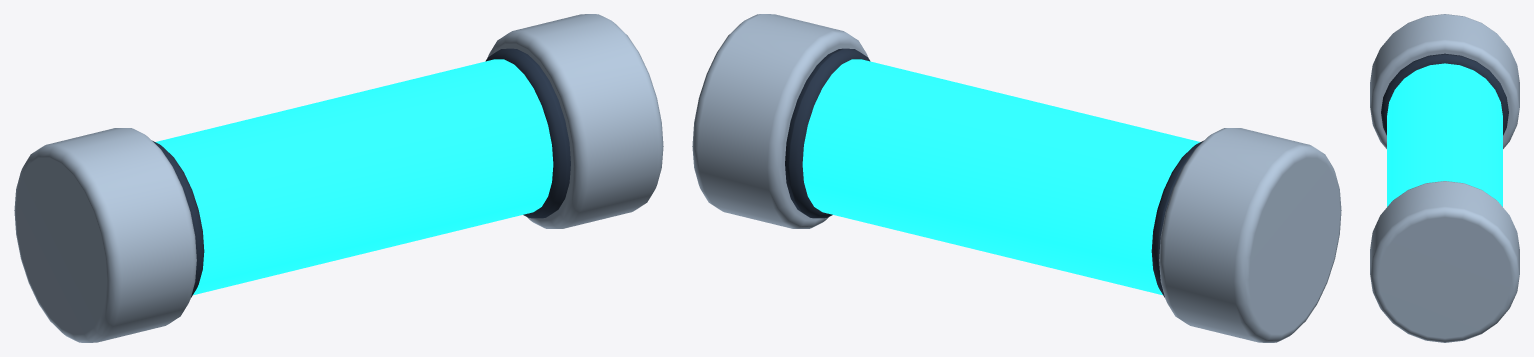
File: AFJ_Energy_Cartridge.fbx
3 renders of one model, left to right at view 1: azimuth 30°, elevation 25°; view 2: azimuth 150°, elevation 25°; view 3: azimuth 270°, elevation 25°, orthographic. The views are drawn at different scales.
Visible parts, largest first — view 1: Energy_Core_01, Cartridge_Endcap, Cartridge_Endcap.001, Cartridge_Collar.001, Cartridge_Collar; view 2: Energy_Core_01, Cartridge_Endcap, Cartridge_Endcap.001, Cartridge_Collar.001, Cartridge_Collar; view 3: Cartridge_Endcap.001, Energy_Core_01, Cartridge_Endcap, Cartridge_Collar.
Boxes of the visible parts, <box> form: Energy_Core_01: <box>155,59,553,295</box>; Cartridge_Endcap: <box>14,128,196,342</box>; Cartridge_Endcap.001: <box>487,14,663,228</box>; Cartridge_Collar.001: <box>485,48,570,218</box>; Cartridge_Collar: <box>152,140,204,297</box>; Energy_Core_01: <box>802,59,1200,295</box>; Cartridge_Endcap: <box>1159,128,1341,342</box>; Cartridge_Endcap.001: <box>692,14,868,228</box>; Cartridge_Collar.001: <box>785,48,870,218</box>; Cartridge_Collar: <box>1151,140,1203,297</box>; Cartridge_Endcap.001: <box>1370,181,1519,342</box>; Energy_Core_01: <box>1387,63,1502,206</box>; Cartridge_Endcap: <box>1370,14,1519,148</box>; Cartridge_Collar: <box>1381,53,1508,135</box>.
Bounding box in the file's own units: 69 × 22 × 22.
